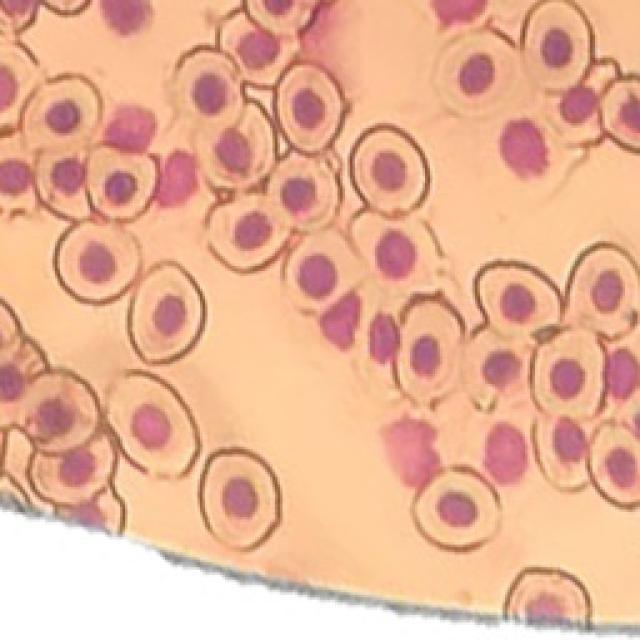RBC: (108, 371, 200, 477), (351, 209, 444, 299), (278, 225, 366, 318), (199, 448, 280, 549), (348, 123, 434, 218), (27, 419, 120, 505), (395, 292, 464, 405), (129, 262, 206, 363), (434, 29, 521, 117), (16, 369, 104, 456), (412, 466, 501, 550), (564, 243, 640, 339), (55, 221, 140, 304), (194, 103, 275, 189), (474, 261, 561, 337), (532, 329, 605, 419), (208, 195, 291, 272), (522, 0, 592, 90), (545, 60, 619, 145), (276, 64, 344, 153), (22, 74, 101, 150), (173, 46, 246, 127), (220, 11, 299, 85), (462, 328, 531, 412), (268, 152, 340, 232), (86, 144, 156, 221), (505, 568, 591, 627), (0, 332, 49, 420), (534, 414, 589, 490), (591, 423, 640, 507), (0, 36, 42, 134), (35, 149, 90, 220), (0, 129, 41, 214), (54, 488, 126, 532), (600, 75, 640, 152), (246, 1, 319, 33)
WBC: (382, 415, 440, 488), (500, 120, 549, 178), (484, 423, 528, 484), (320, 291, 361, 350), (104, 105, 155, 152), (156, 151, 198, 206), (101, 0, 151, 35), (606, 349, 640, 398), (369, 314, 399, 364), (431, 0, 488, 26)
